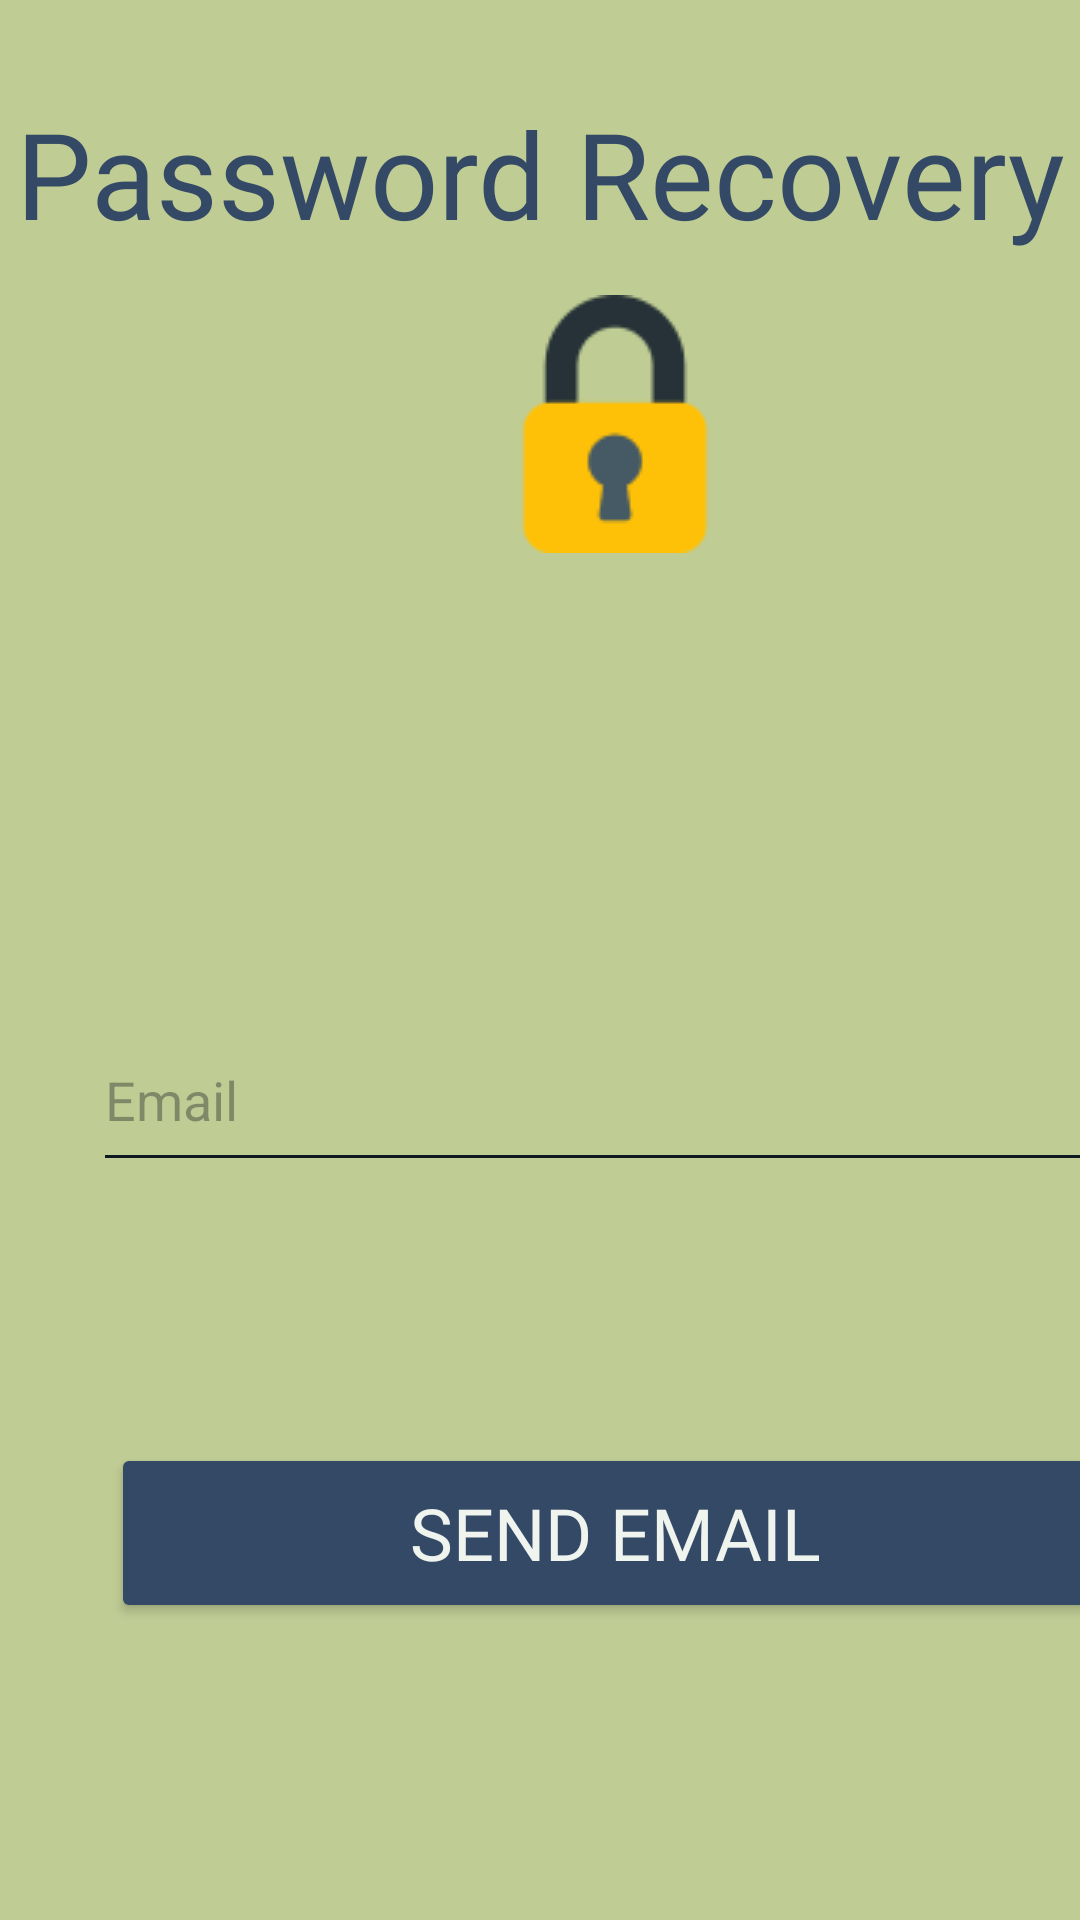

Locate icon controls on the screen. Image size 1080px×1920px, boxes as rect(x1, y1, x2, y2).
lock: rect(522, 295, 708, 553)
